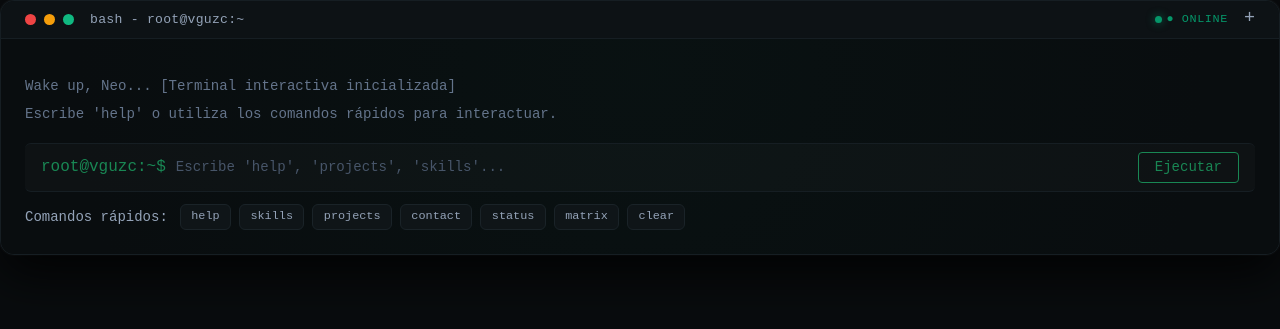
Test: Componente Terminal interactivo (Consola CRT) › debe ejecutar un comando y mostrar la respuesta en el DOM
Type "help" into the field named "Línea de comando interactiva".
click(652, 168); type("help")  # box x1=174 y1=156 x2=1130 y2=180
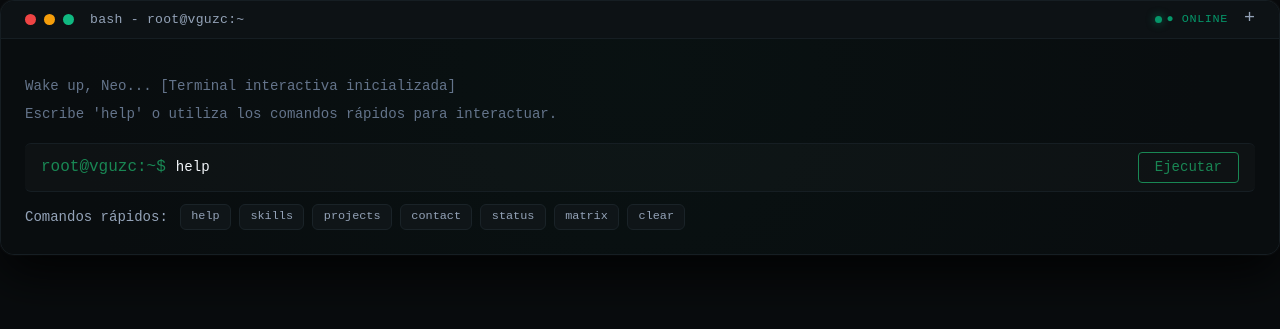
Click the button "Ejecutar".
click(1188, 168)  # box x1=1138 y1=152 x2=1239 y2=183
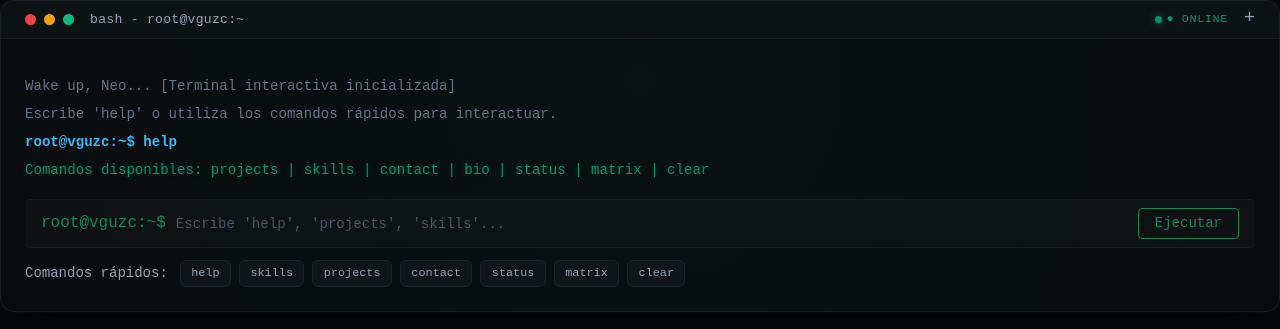
Result: the text "Comandos disponibles:" is shown at x1=25 y1=162 x2=709 y2=178
